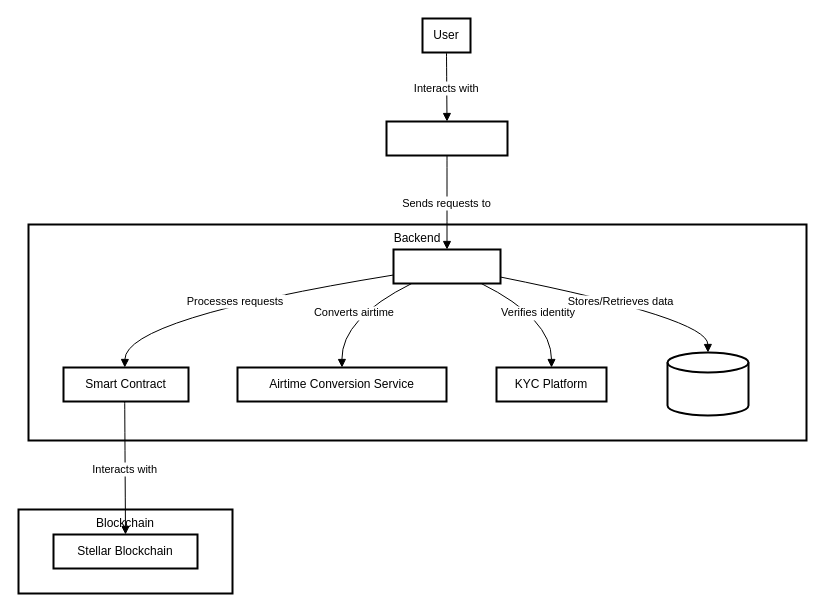
The diagram is 824 pixels wide and 611 high, and some of its shapes have lost their labels. Each missing label, with the centre of its shape:
Database: point 707,383
Quart Server: point 446,266
USSD Interface: point 446,138
